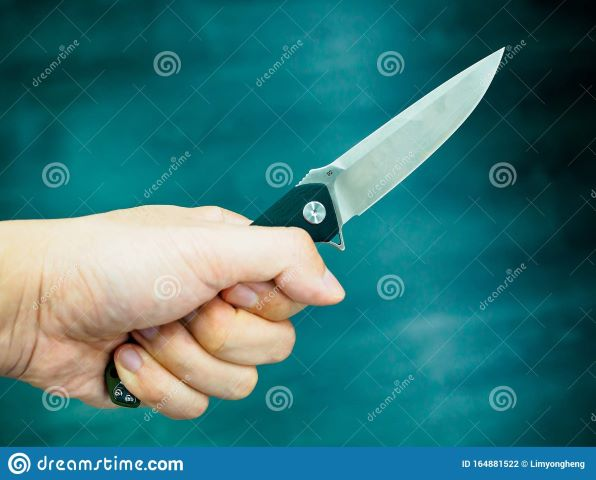knife: (280, 46, 495, 246)
